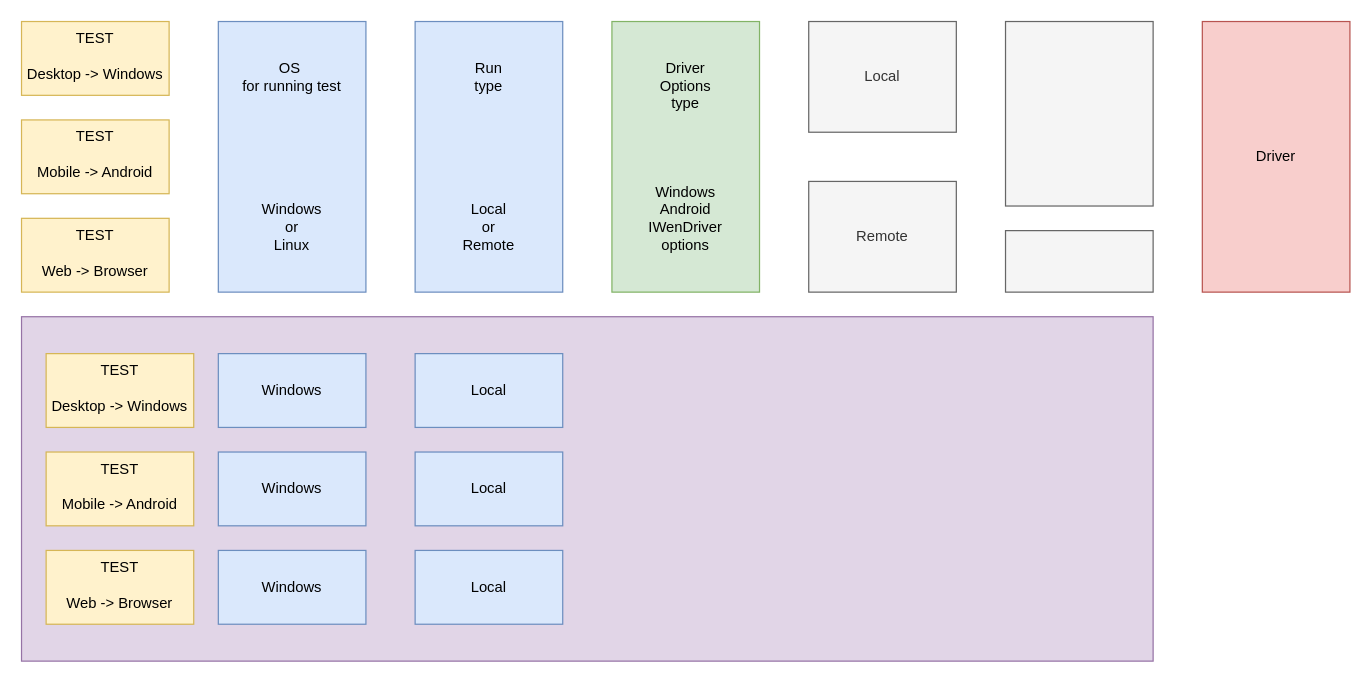
This 1371x683 diagram has some shape labels left out. Here are the shapes that lost their labels. From the top down, the box of each, then its label:
(1004, 20, 1153, 206): Local Driver Windows Android Chrome Firefox etc
(1004, 229, 1153, 292): Remote driver
